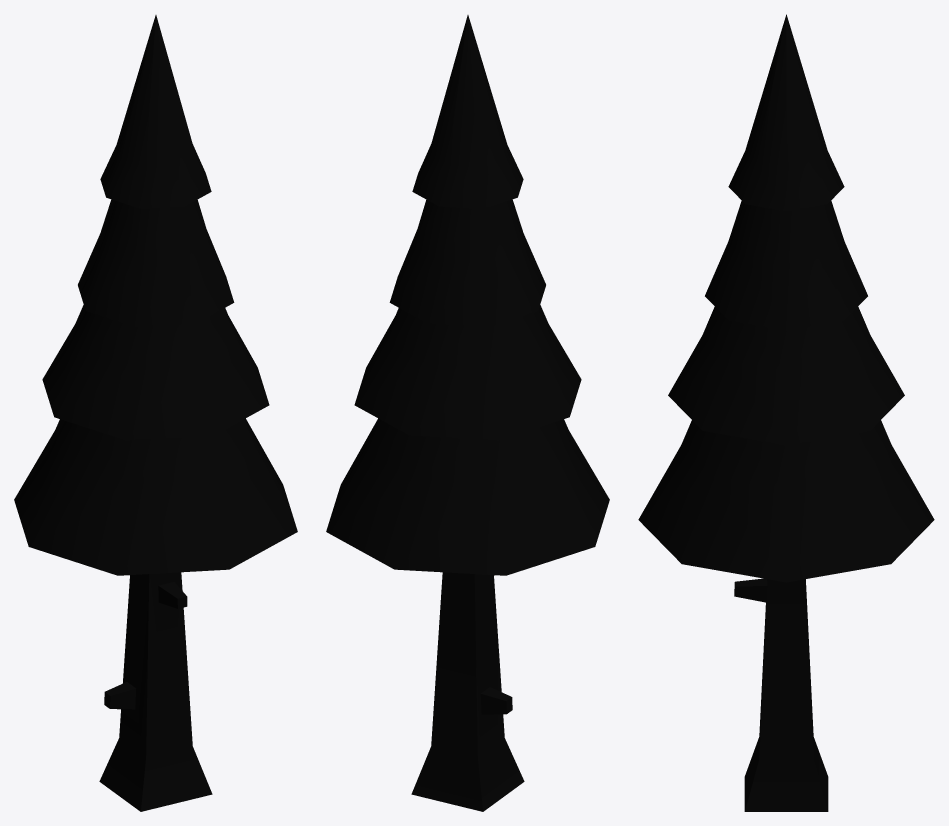
File: tree-high.glb
3 renders of one model, left to right at view 1: azimuth 30°, elevation 25°; view 2: azimuth 150°, elevation 25°; view 3: azimuth 270°, elevation 25°, orthographic.
Visible parts, largest first — view 1: tree-high; view 2: tree-high; view 3: tree-high.
Boxes of the visible parts, box(x1,y1,x2,y2) form: tree-high: box(14, 15, 297, 811); tree-high: box(326, 15, 609, 811); tree-high: box(638, 14, 934, 811).
Size of the model in its own units: 1.02 by 2.97 by 1.02.
Materials: 1 (1 with a texture image).
